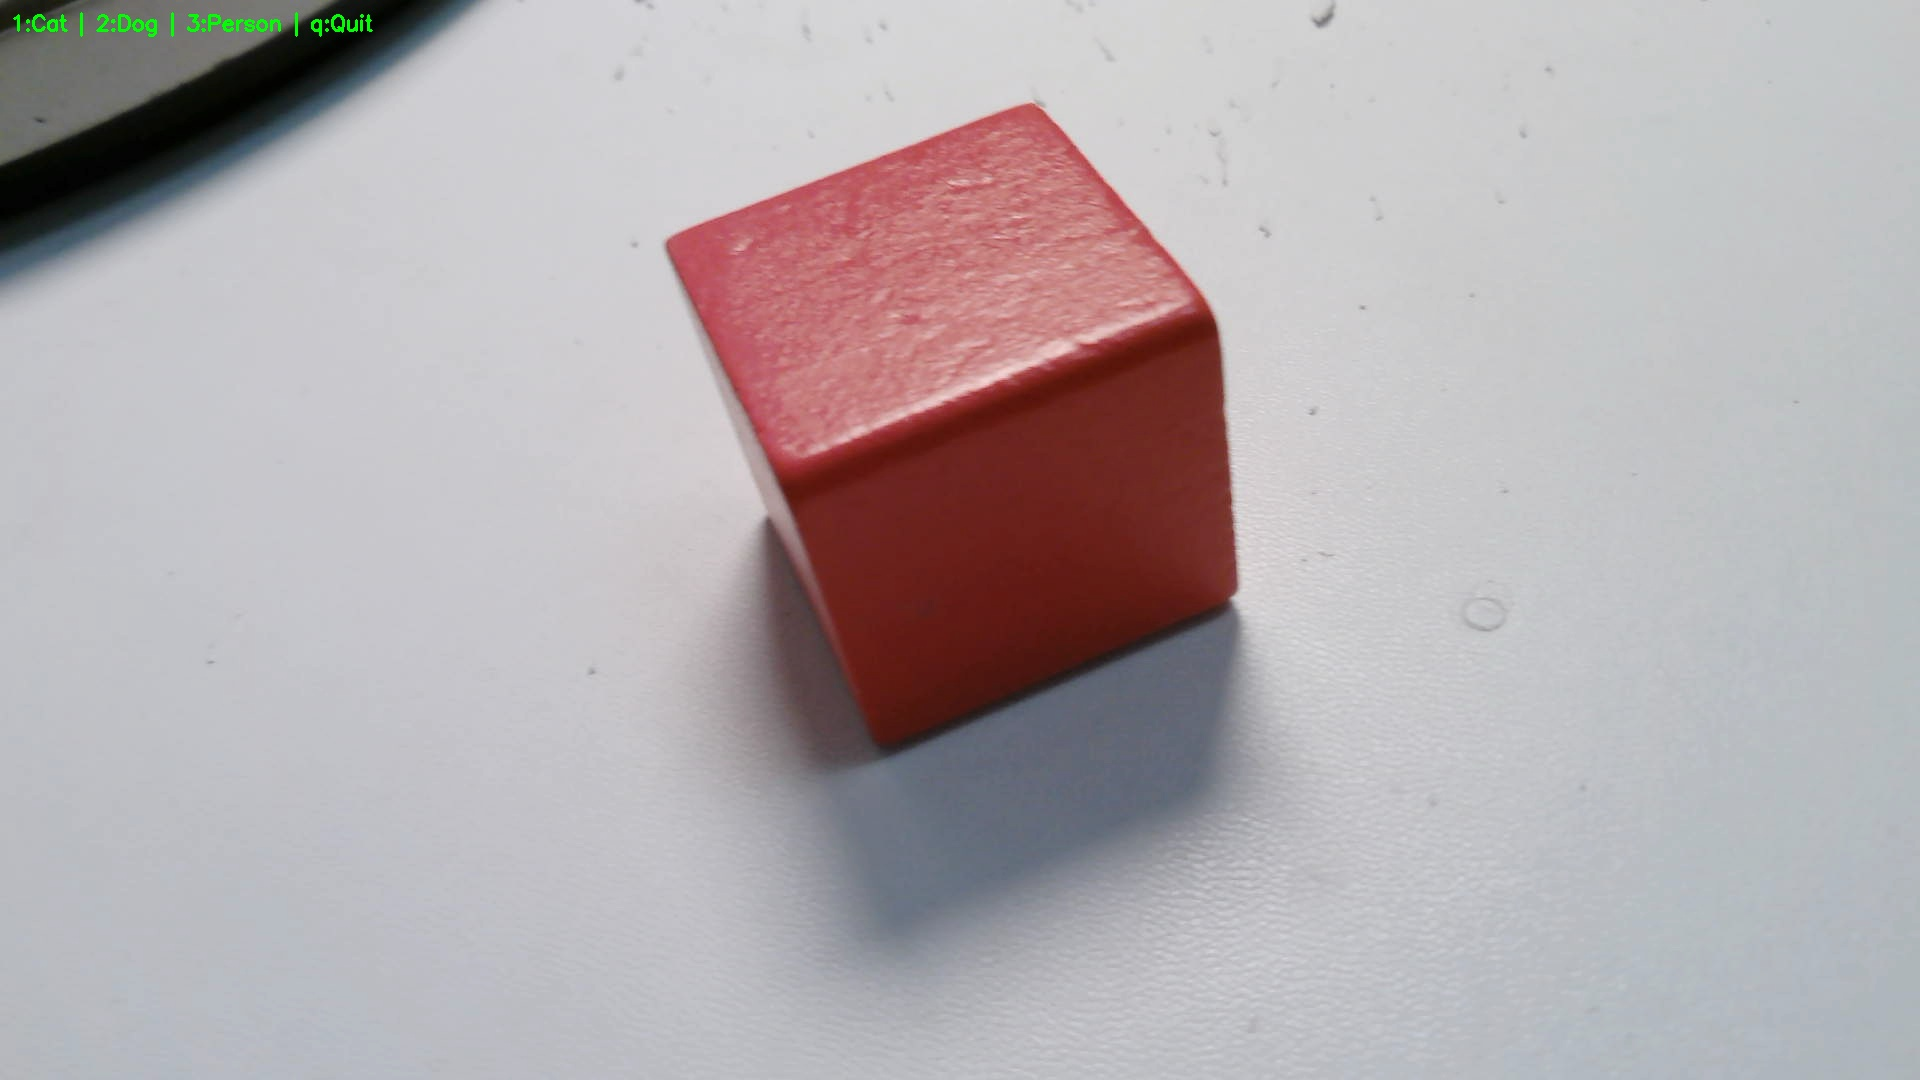red: (669, 105, 1241, 757)
